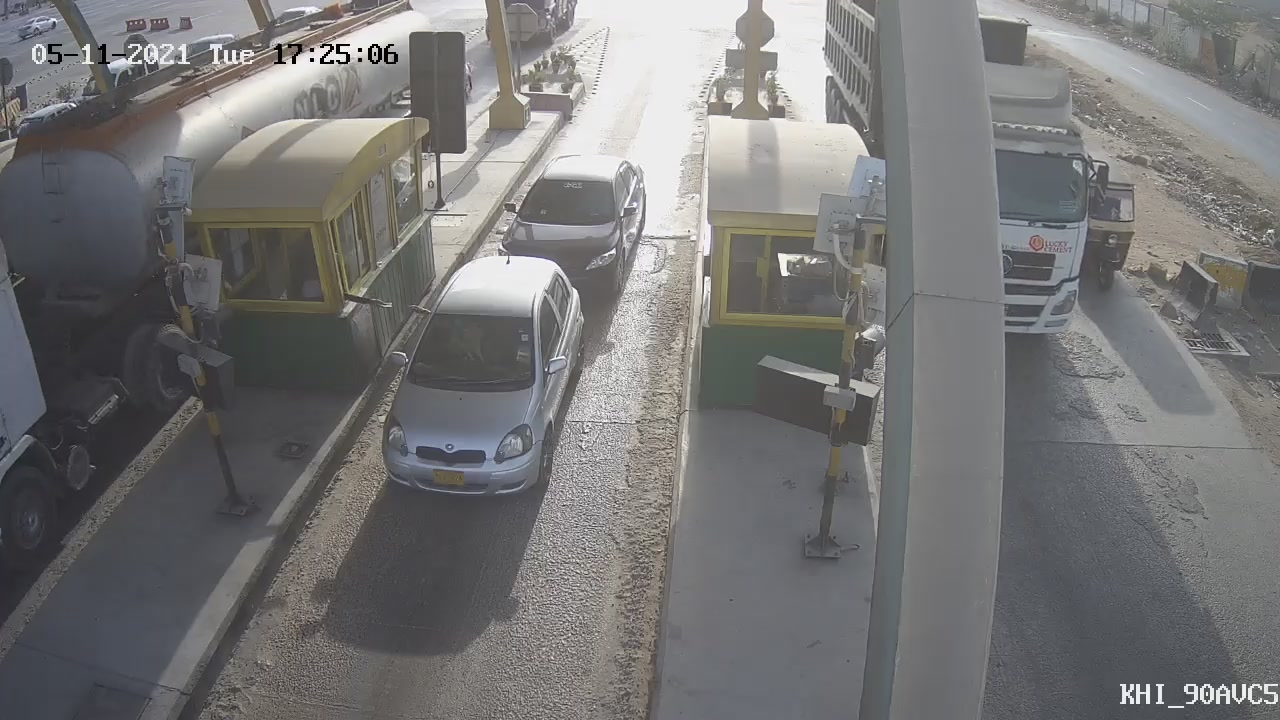F1: (360, 240, 603, 516), (479, 136, 664, 317)
